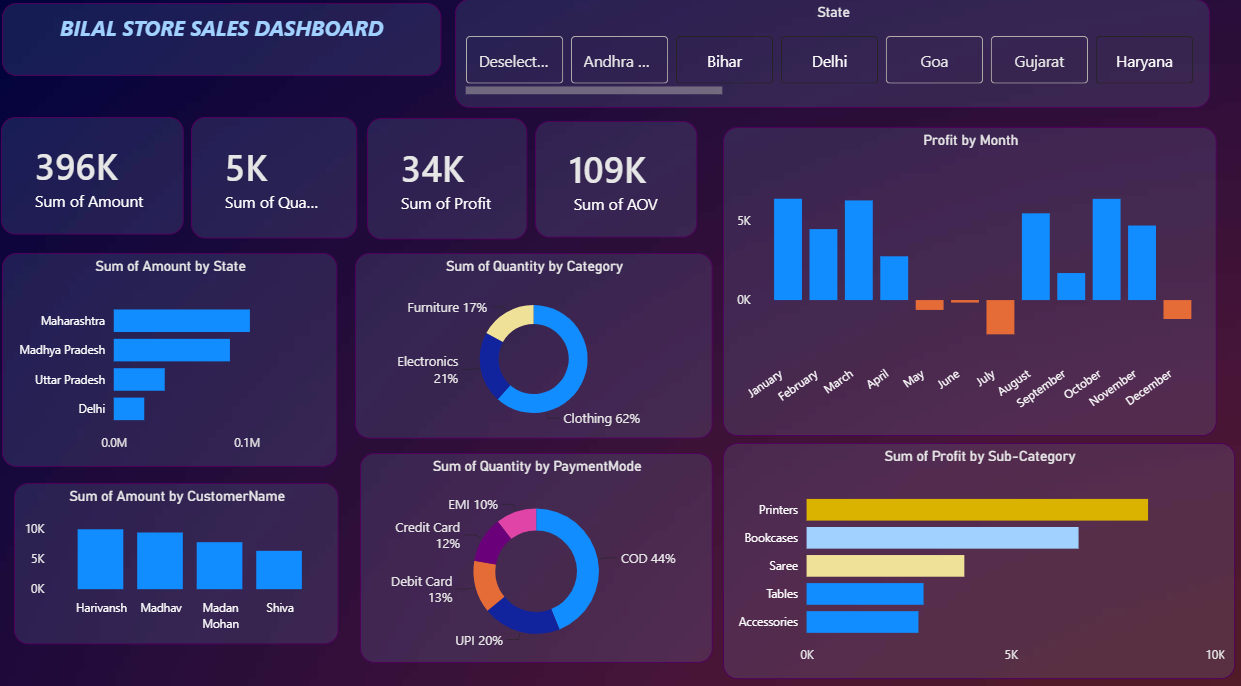

This screenshot's page, from the dashboard's own definition file:
{"tool":"powerbi","page":{"name":"Page 1","canvas":[1280,720],"ordinal":0},"visuals":[{"type":"textbox","box":[3.6,10.7,452,74.9],"z":0},{"type":"columnChart","title":" Profit by Month","fields":{"Category":["Orders.Order Date.Variation.Date Hierarchy.Month"],"Y":["Sum(Details.Profit)"]},"box":[744.7,138,508,317.6],"z":1000},{"type":"barChart","fields":{"Category":["Details.Sub-Category"],"Y":["Sum(Details.Profit)"]},"box":[744.7,462.8,527,242.7],"z":2000},{"type":"donutChart","fields":{"Category":["Details.Category"],"Y":["Sum(Details.Quantity)"]},"box":[366.2,267.5,367.5,191.2],"z":3000},{"type":"donutChart","fields":{"Y":["Sum(Details.Quantity)"],"Category":["Details.PaymentMode"]},"box":[371.2,473.8,362.5,216.2],"z":4000},{"type":"cardVisual","fields":{"Data":["Sum(Details.Amount)"]},"box":[2.4,127.3,188,121.3],"z":5000},{"type":"cardVisual","fields":{"Data":["Sum(Details.Quantity)"]},"box":[197.5,127.3,171.3,124.9],"z":6000},{"type":"cardVisual","fields":{"Data":["Sum(Details.Profit)"]},"box":[378.3,128.5,165.4,124.9],"z":7000},{"type":"cardVisual","fields":{"Data":["Sum(Details.AOV)"]},"box":[552,132,166.5,120.1],"z":8000},{"type":"barChart","fields":{"Category":["Orders.State"],"Y":["Sum(Details.Amount)"]},"box":[3.6,267.7,345,220.1],"z":9000},{"type":"columnChart","fields":{"Category":["Orders.CustomerName"],"Y":["Sum(Details.Amount)"]},"box":[15,503.8,333.8,166.2],"z":10000},{"type":"advancedSlicerVisual","fields":{"Values":["Orders.State"]},"box":[468.7,5.9,776.8,111.8],"z":11000}]}

Visuals, with their boxes in screenshot pixels (x1, y1, x2, y2), scaled from the page's 1280x720 canvas onto the 1241x686 screenshot:
textbox: [3,10,442,82]
" Profit by Month" columnChart: [722,131,1215,434]
barChart - Details.Sub-Category x Sum(Details.Profit): [722,441,1233,672]
donutChart - Details.Category x Sum(Details.Quantity): [355,255,711,437]
donutChart - Sum(Details.Quantity) x Details.PaymentMode: [360,451,711,657]
cardVisual - Sum(Details.Amount): [2,121,185,237]
cardVisual - Sum(Details.Quantity): [191,121,358,240]
cardVisual - Sum(Details.Profit): [367,122,527,241]
cardVisual - Sum(Details.AOV): [535,126,697,240]
barChart - Orders.State x Sum(Details.Amount): [3,255,338,465]
columnChart - Orders.CustomerName x Sum(Details.Amount): [15,480,338,638]
advancedSlicerVisual - Orders.State: [454,6,1208,112]
